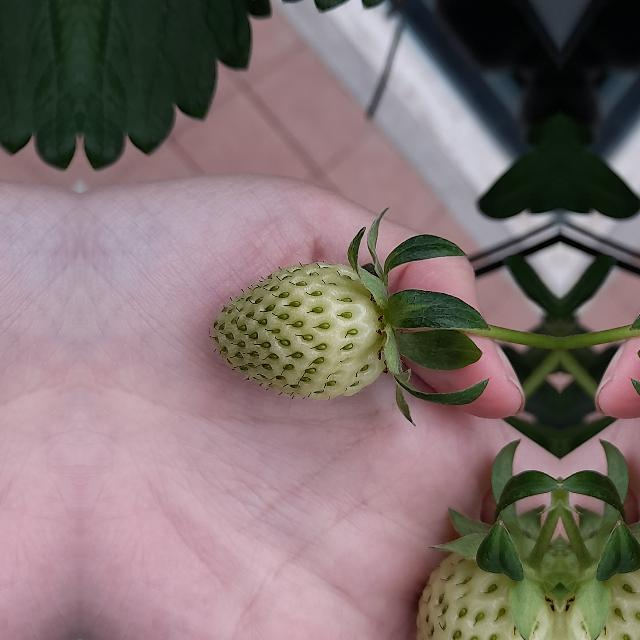Health_25: (213, 262, 385, 398)
